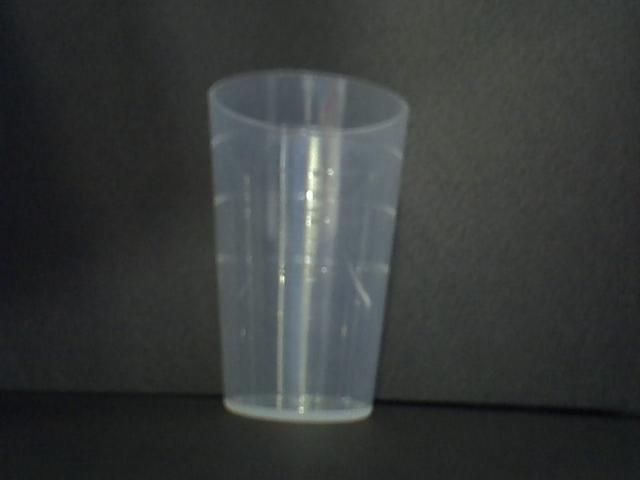cup: (205, 64, 409, 425)
